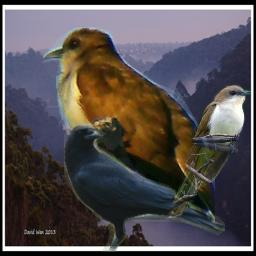Crow: (64, 121, 225, 252)
Cuckoo: (43, 27, 215, 230), (167, 83, 251, 218)
